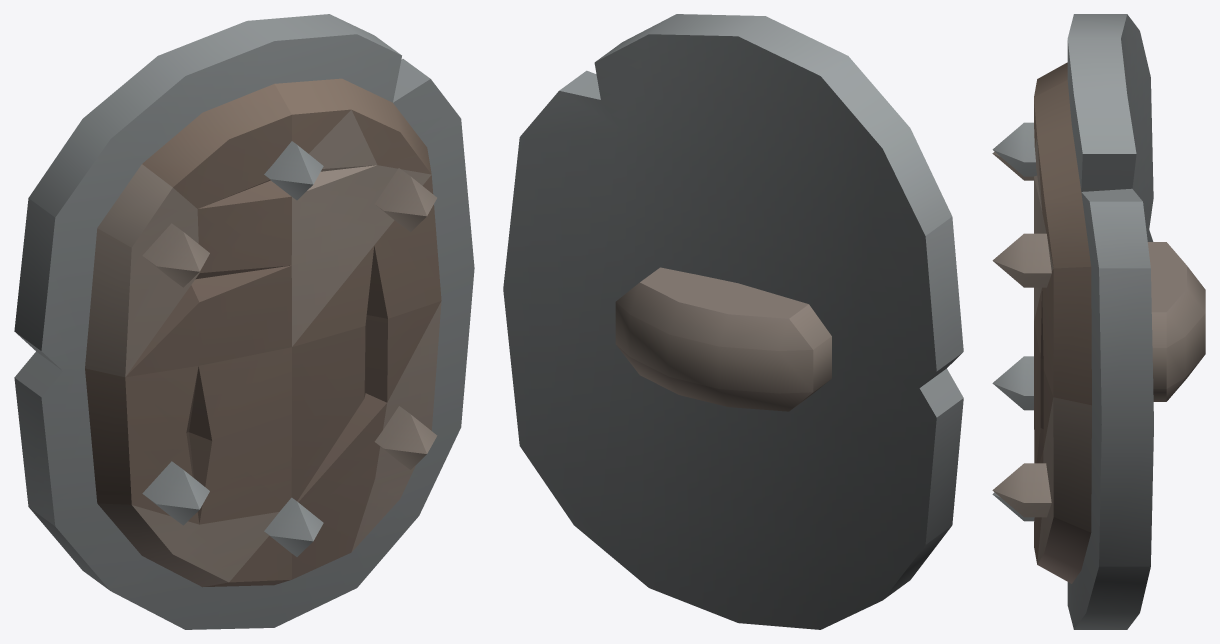
Rendered from Skeleton_Shield_Large_B.glb.
3 views of the same model, side by side, from view 1: azimuth 30°, elevation 25°; view 2: azimuth 150°, elevation 25°; view 3: azimuth 270°, elevation 25° (orthographic). The views are drawn at different scales.
Size of the model in its own units: 0.8771 by 1.13 by 0.3871.
1 material, 1 textured.
